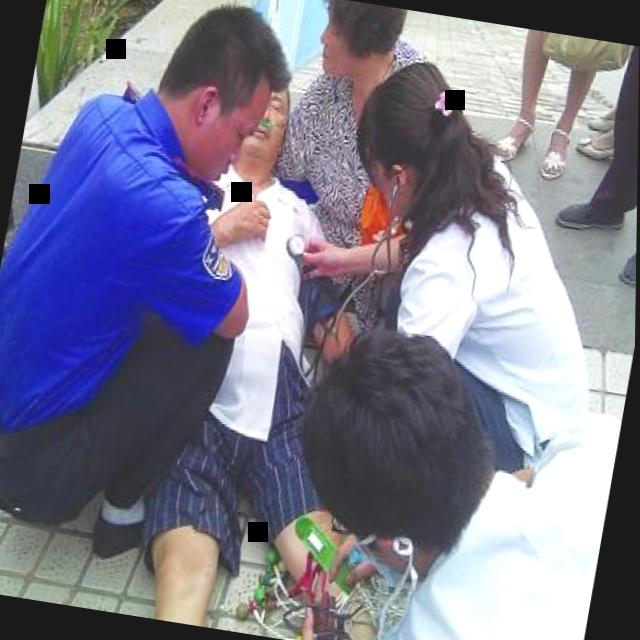Fall-Detected: (121, 29, 435, 640)
